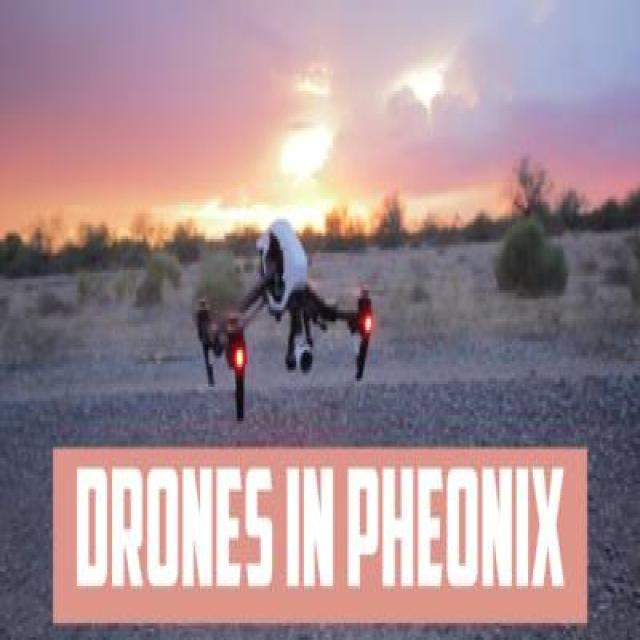drone: (194, 217, 373, 422)
